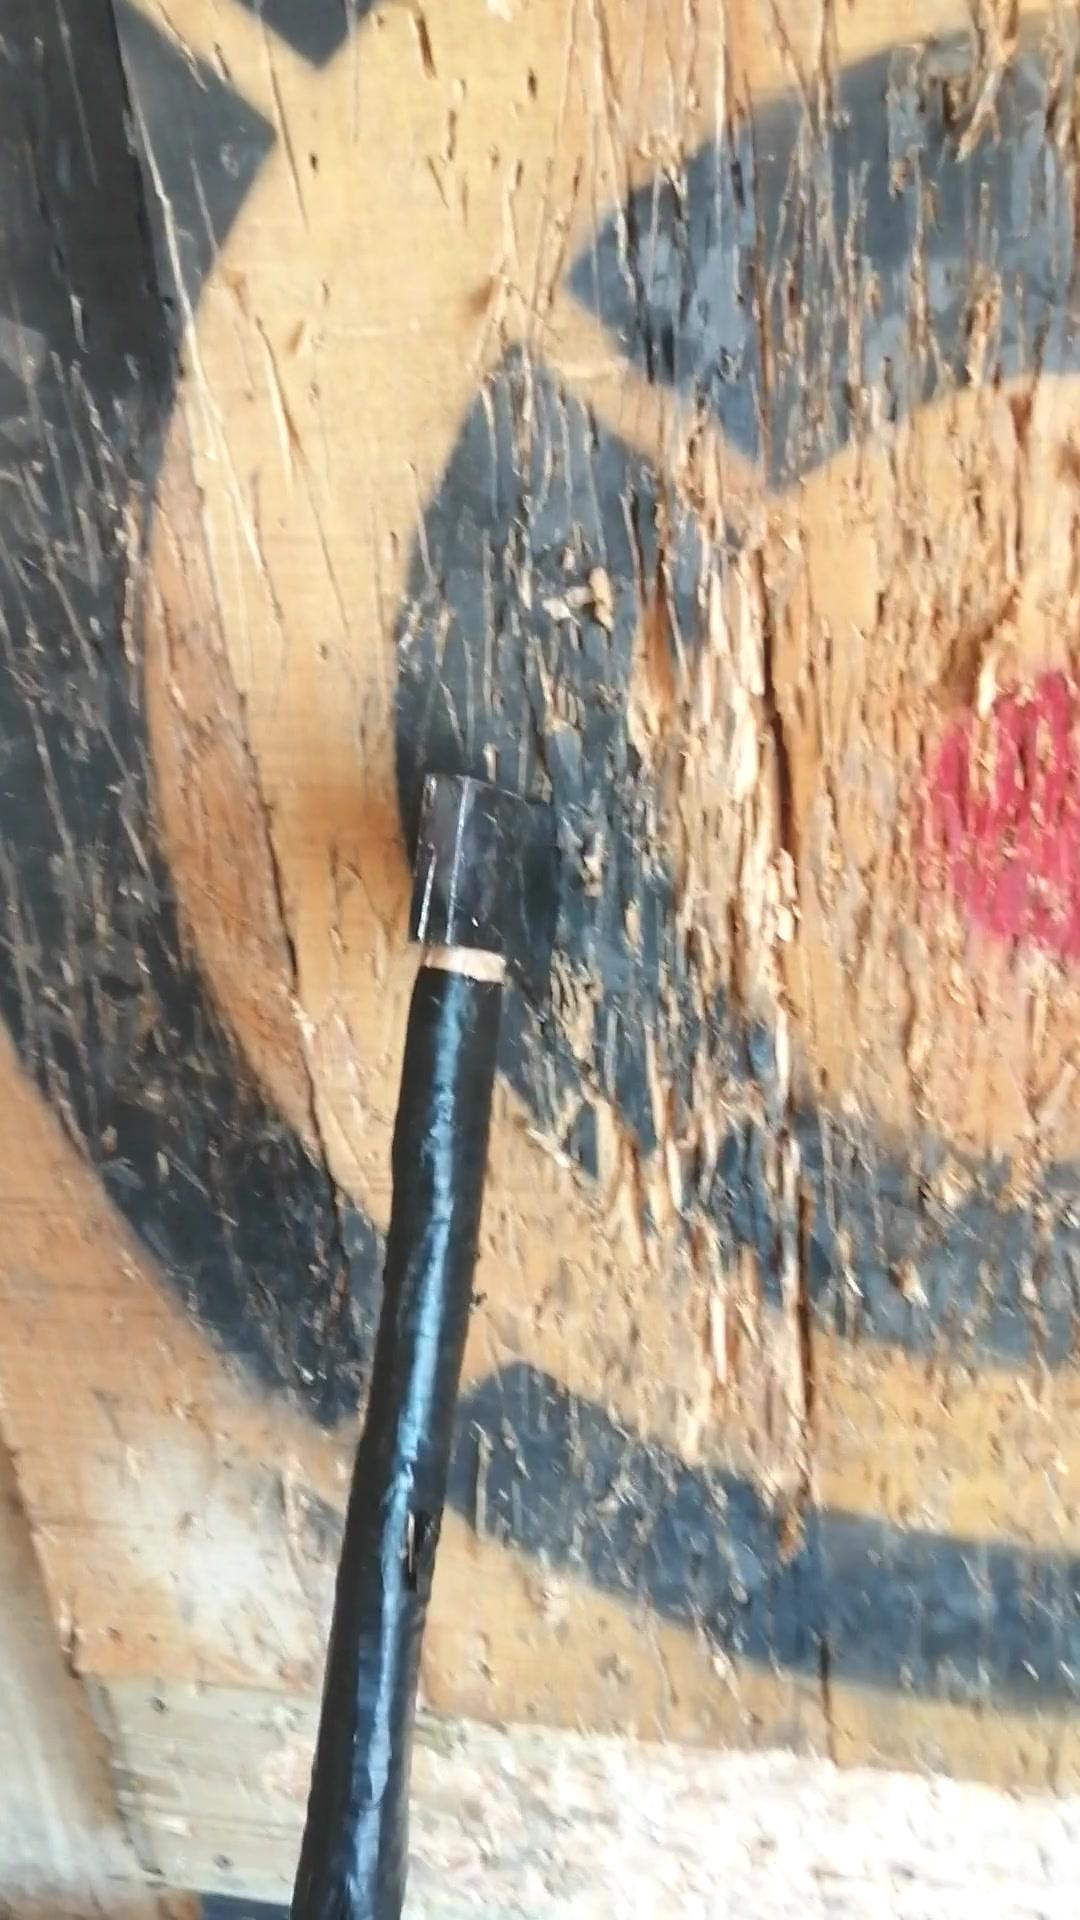Hand Axe: (405, 770, 571, 1004)
